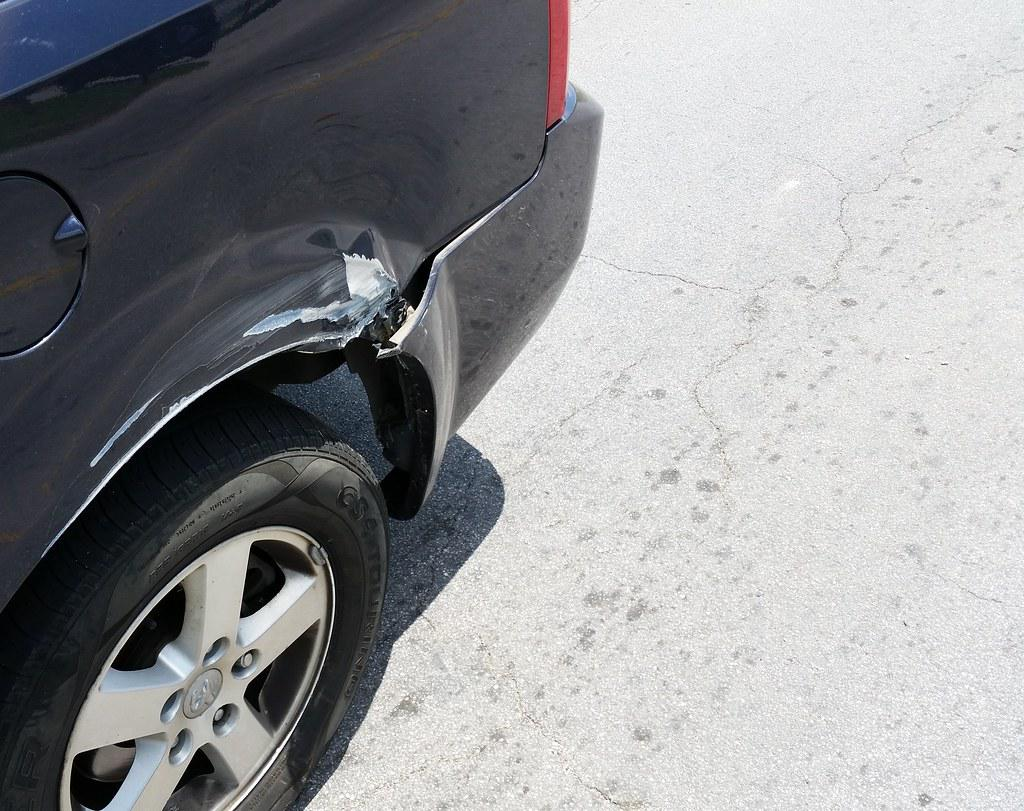quaterpanel-dent: (28, 68, 595, 478)
